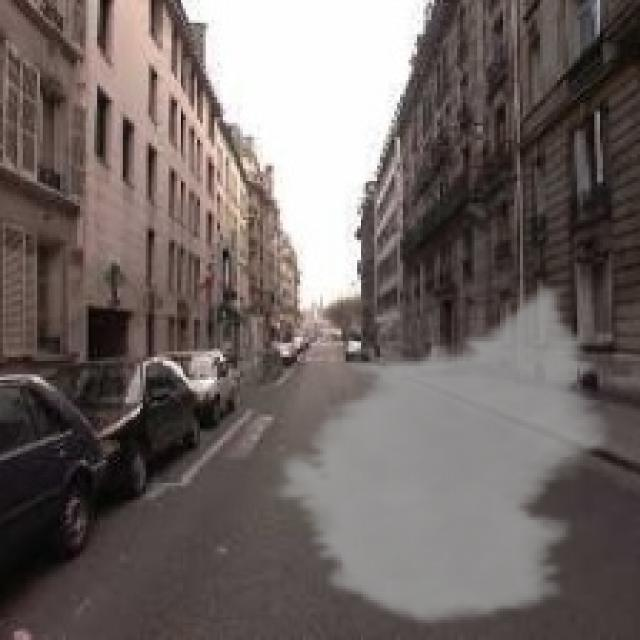smoke: (269, 283, 620, 628)
